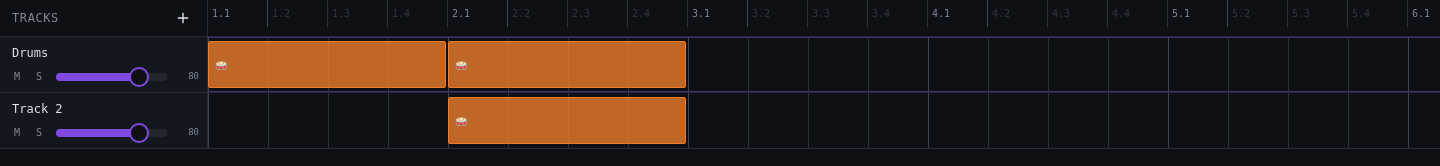
Test case: Timeline › duplicates a clip
Click the 1st text "🥁" at (221, 64), box [215, 57, 228, 72]
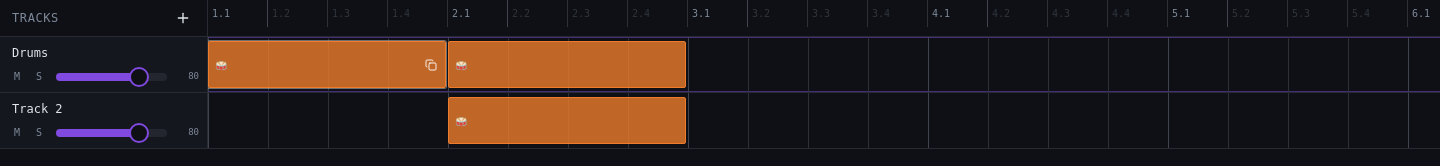
Click the button titled "Duplicate clip" at (431, 64), box [423, 56, 439, 72]
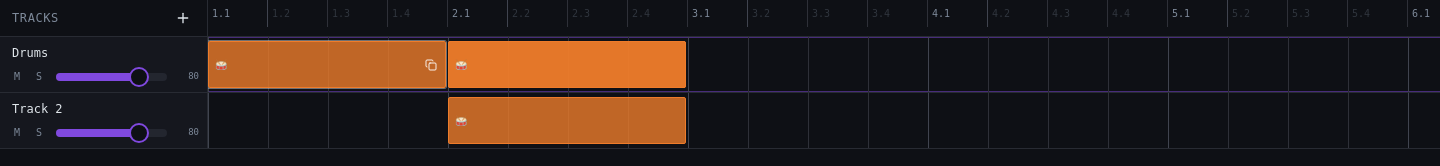
Expected: the text "🥁" is shown 4 times, [215, 57, 228, 72]; [455, 57, 468, 72]; [455, 57, 468, 72]; [455, 113, 468, 128]
